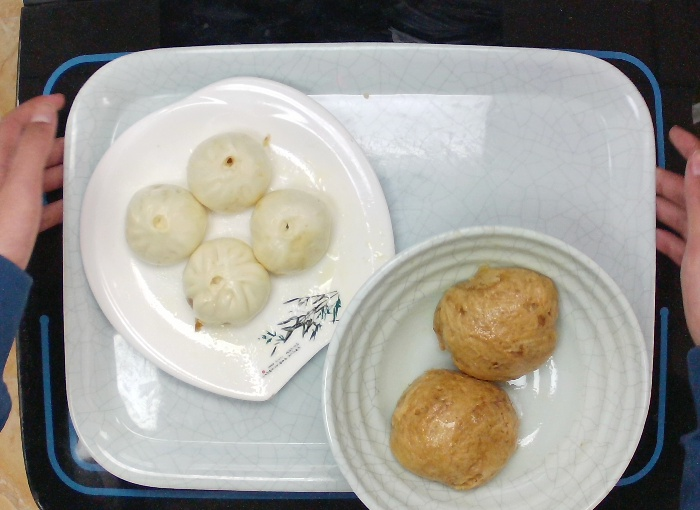JYsf-Da_Tang_Wan: (320, 222, 654, 510)
JYsf-Mian_Pan: (77, 74, 405, 405)
